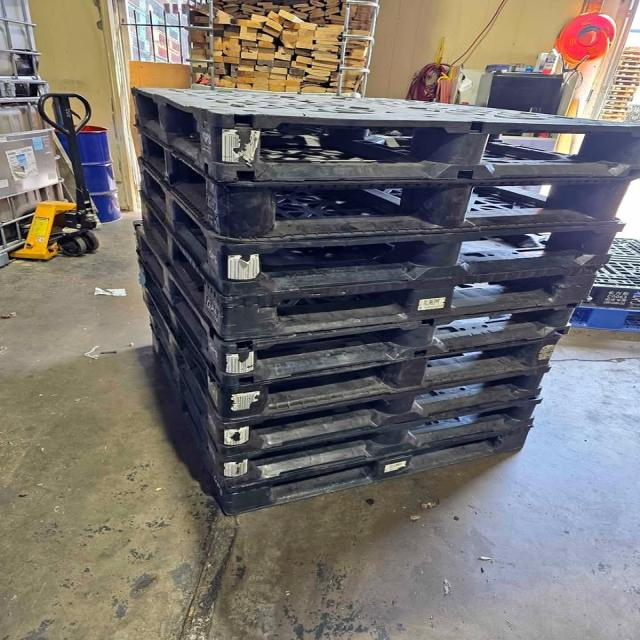igps: (129, 80, 640, 186), (222, 295, 586, 390), (221, 220, 630, 302), (224, 330, 566, 428), (219, 363, 556, 461), (222, 394, 548, 494), (223, 261, 606, 345), (224, 421, 538, 519), (219, 176, 640, 247)
